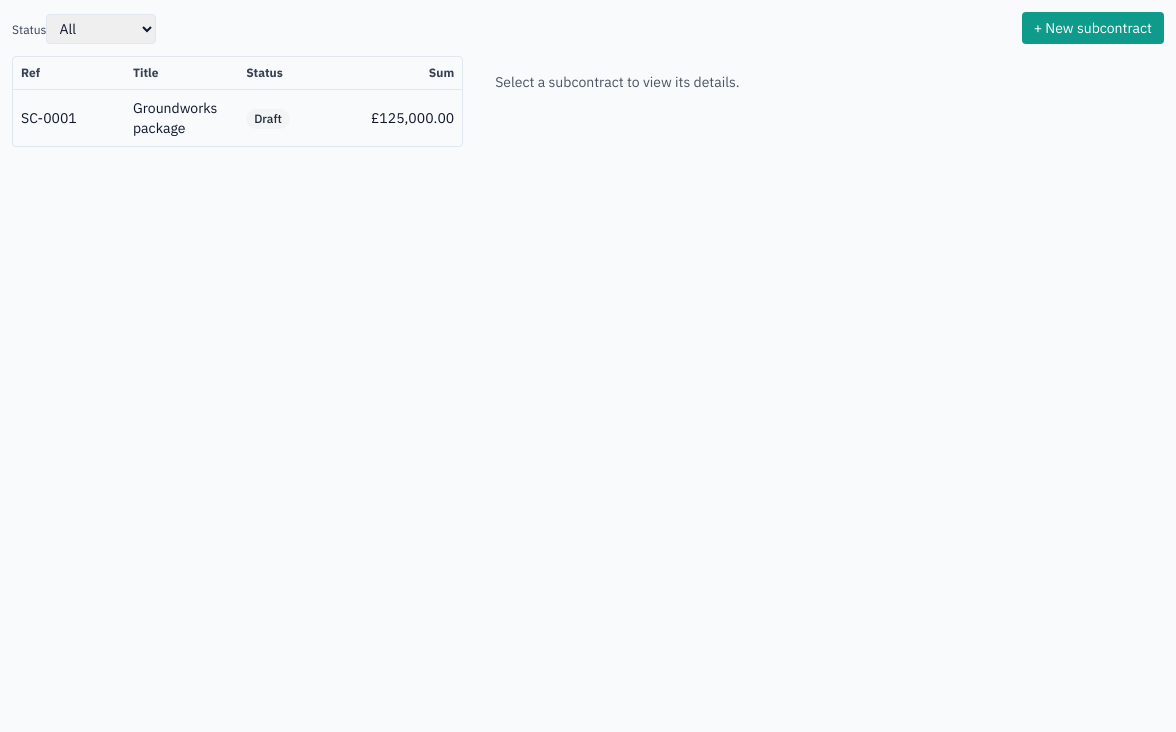
Scenario: button visibility — perms × status › Draft status → renders Activate + Terminate, no Complete
What coordinates should you click on to do the following:
click the row with test id "subcontracts-row-s-1"
I would click on:
 (49, 118)
Its box is [13,90,462,146].
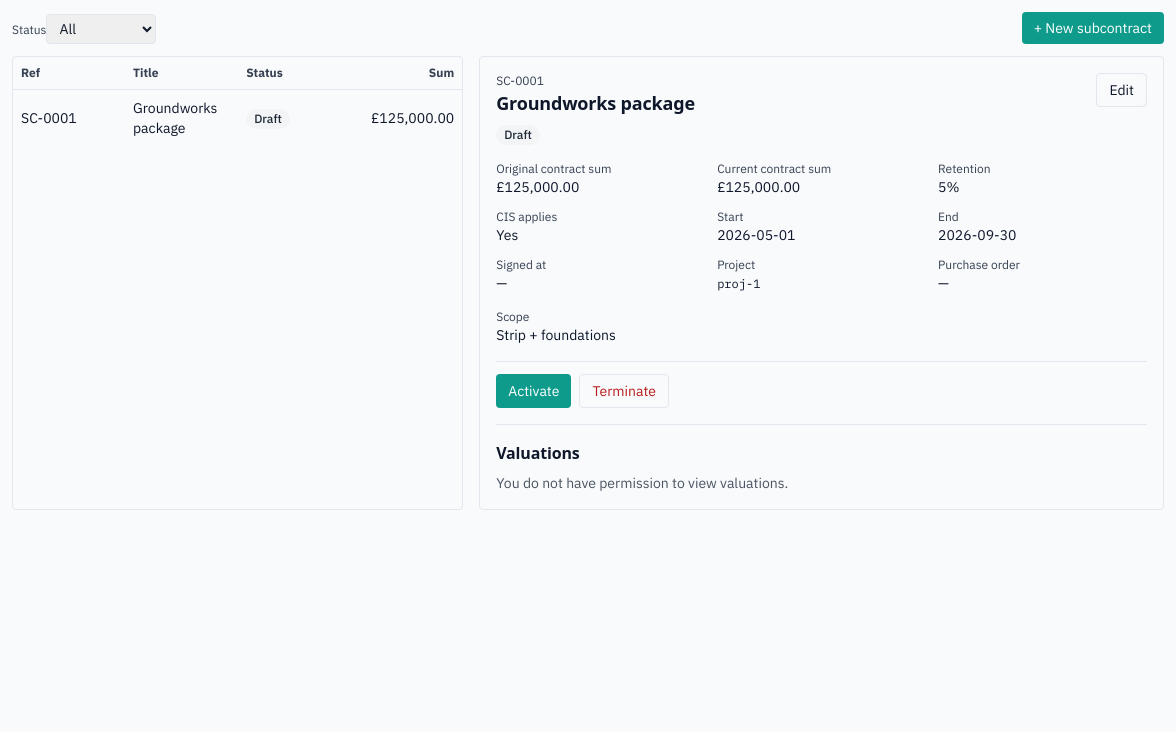
Result: the button with test id "subcontract-actions-activate-btn" is shown at [496,374,571,408]
Result: the button with test id "subcontract-actions-terminate-btn" is shown at [579,374,669,408]
